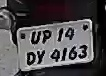1: (56, 26, 66, 45), (61, 45, 69, 64)
3: (77, 44, 90, 62)
4: (65, 26, 76, 42), (51, 47, 60, 63)
6: (69, 44, 78, 62)
D: (23, 50, 36, 67)
P: (42, 28, 54, 46)
U: (29, 30, 42, 47)
Y: (36, 49, 46, 66)
